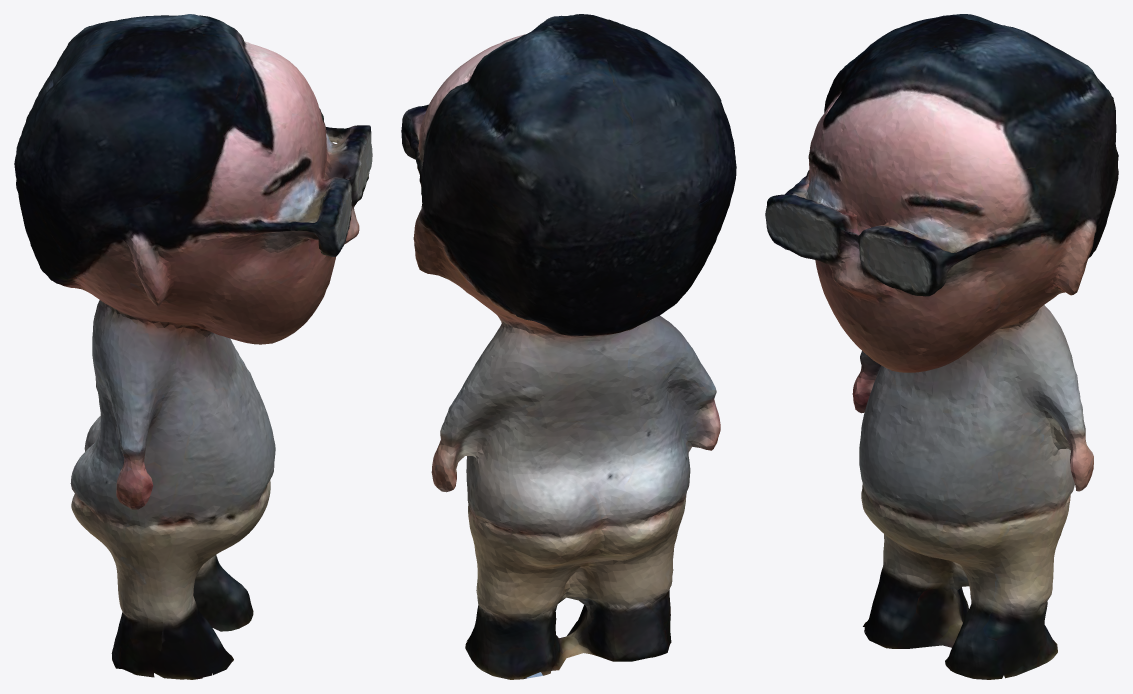
File: Crooks good-2048.glb
The picture shows the model from 3 angles, left to right: view 1: azimuth 30°, elevation 25°; view 2: azimuth 150°, elevation 25°; view 3: azimuth 270°, elevation 25°; orthographic projection.
Size of the model in its own units: 0.055 by 0.0974 by 0.052.
1 material, 1 textured.
